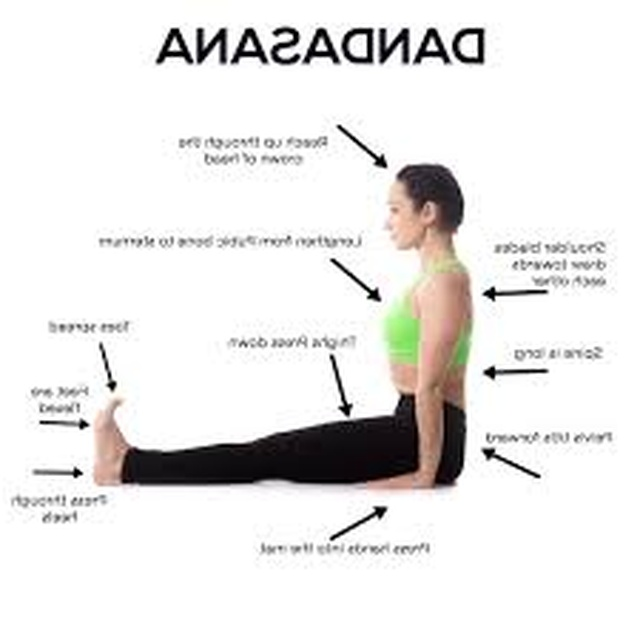Staff_Pose: (91, 163, 474, 490)
